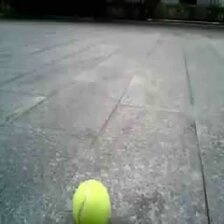tennis: (72, 181, 111, 224)
